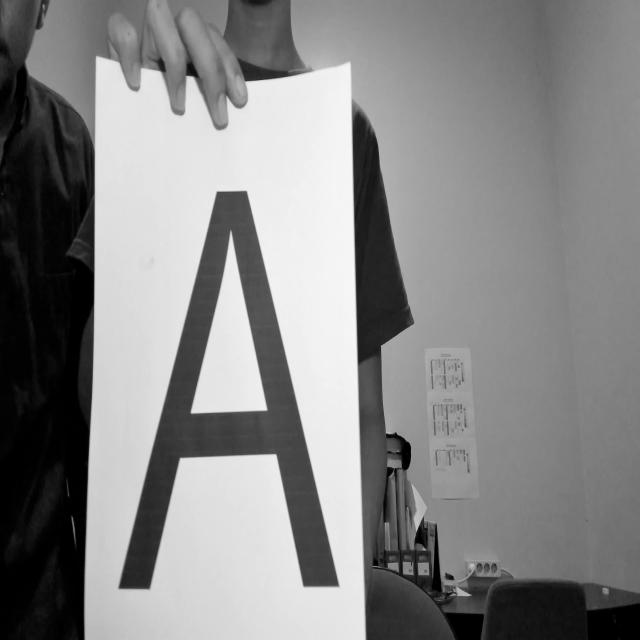a: (115, 163, 346, 629)
